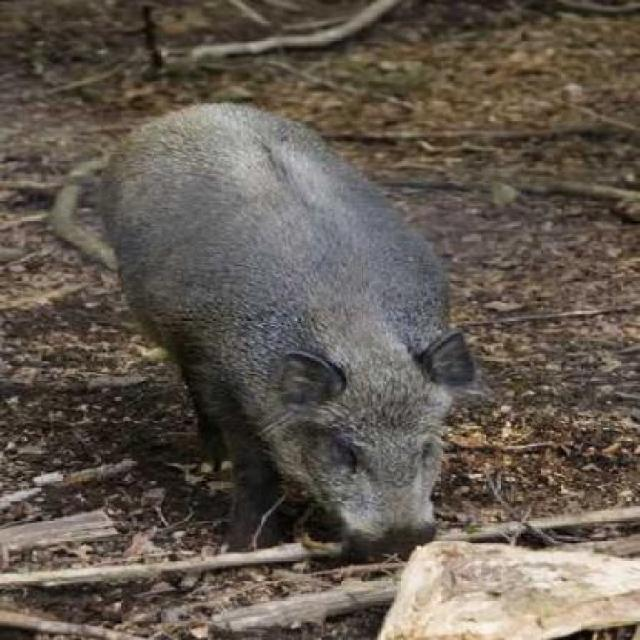pig: (69, 102, 486, 609)
